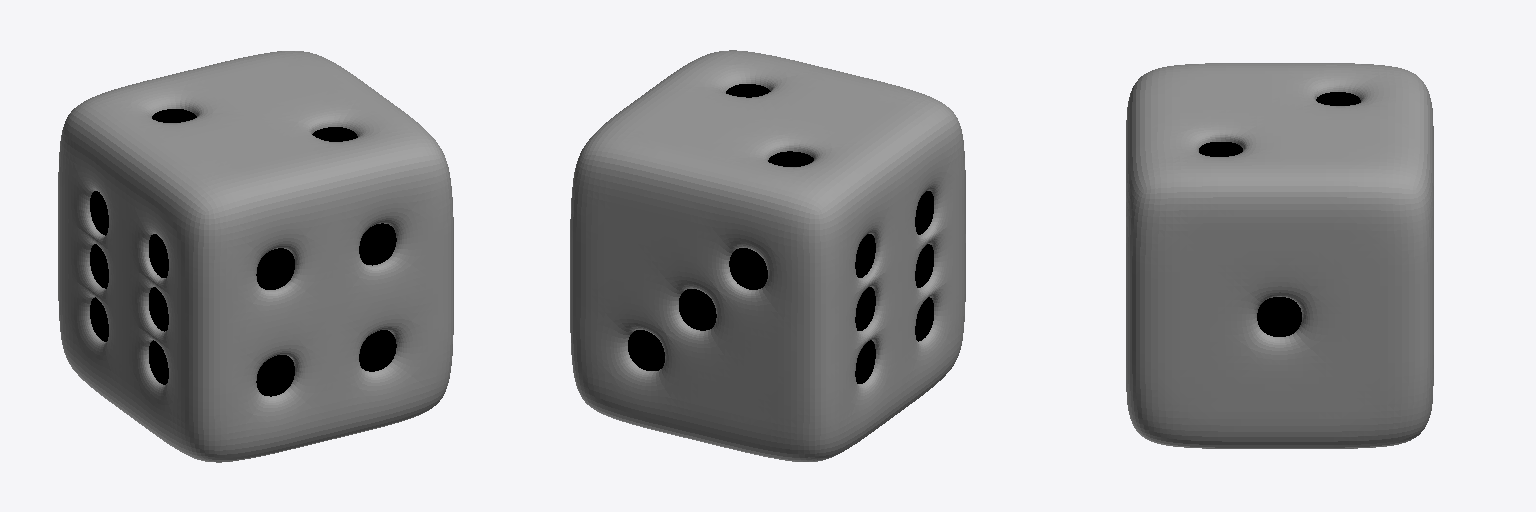
File: dice.obj
3 renders of one model, left to right at view 1: azimuth 30°, elevation 25°; view 2: azimuth 150°, elevation 25°; view 3: azimuth 270°, elevation 25°, orthographic.
Visible parts, largest first — view 1: Cube.002; view 2: Cube.002; view 3: Cube.002.
Boxes of the visible parts, <box> form: Cube.002: <box>58,51,453,462</box>; Cube.002: <box>570,50,965,461</box>; Cube.002: <box>1126,63,1433,448</box>.
Size of the model in its own units: 2 by 2 by 2.